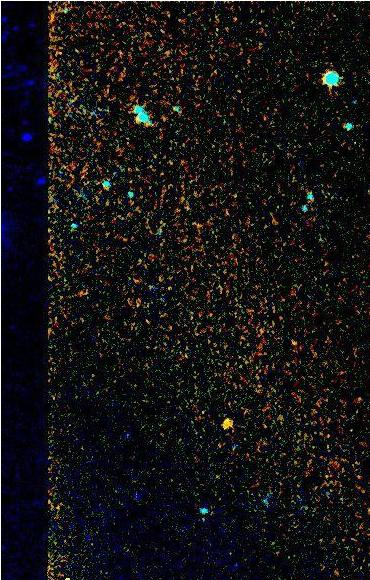star: (50, 560, 80, 580)
